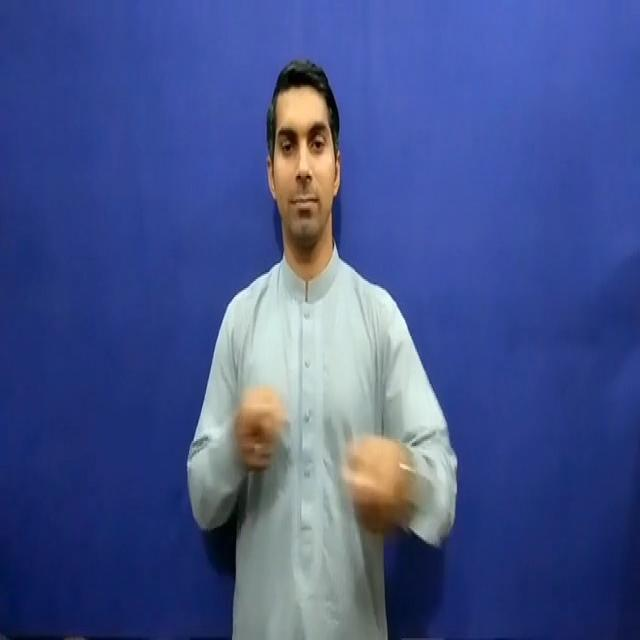manager: (206, 378, 422, 550)
